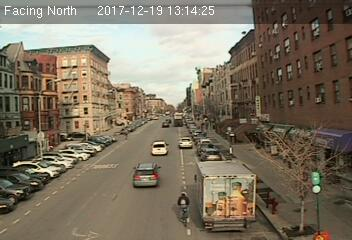bicycle: (175, 191, 192, 228)
car: (131, 162, 160, 187), (151, 140, 168, 155), (202, 148, 221, 160), (179, 136, 192, 149)
truck: (194, 161, 255, 235)
